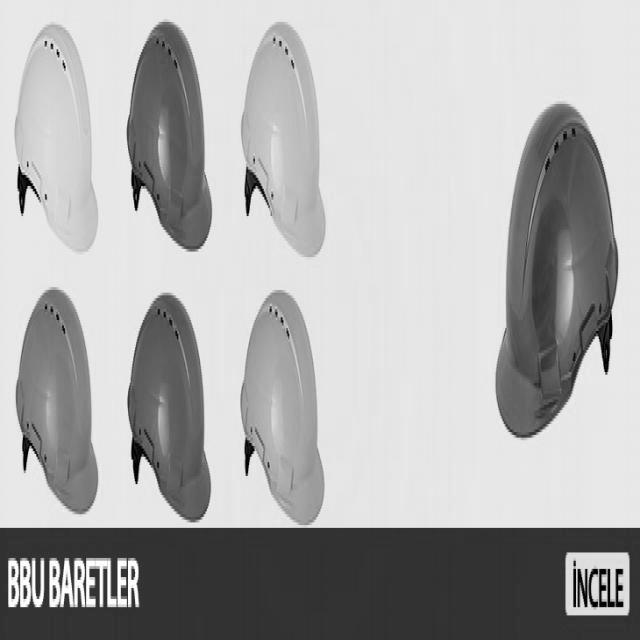construction helmet: (494, 104, 619, 443), (124, 22, 214, 257), (13, 22, 101, 260), (239, 22, 327, 260), (15, 284, 101, 522), (125, 293, 213, 525), (240, 290, 326, 525)
